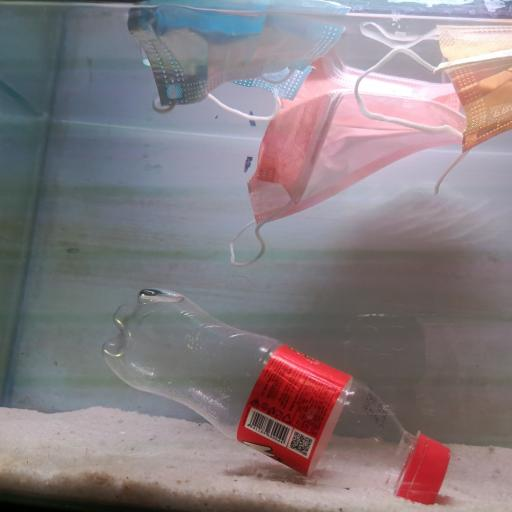bottle_cap: (402, 418, 447, 512)
mask: (246, 62, 469, 268), (130, 2, 352, 114), (351, 26, 512, 164)
plastic_bottle: (101, 284, 455, 512)
